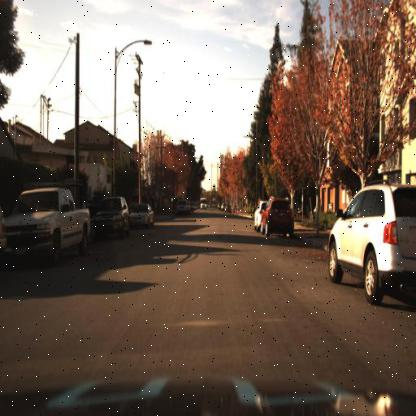car: (328, 177, 416, 307), (0, 174, 90, 266), (1, 179, 91, 269), (92, 192, 130, 242), (92, 196, 131, 238), (260, 196, 296, 238), (128, 199, 154, 232), (252, 197, 270, 234), (130, 204, 152, 227), (175, 197, 190, 216)
